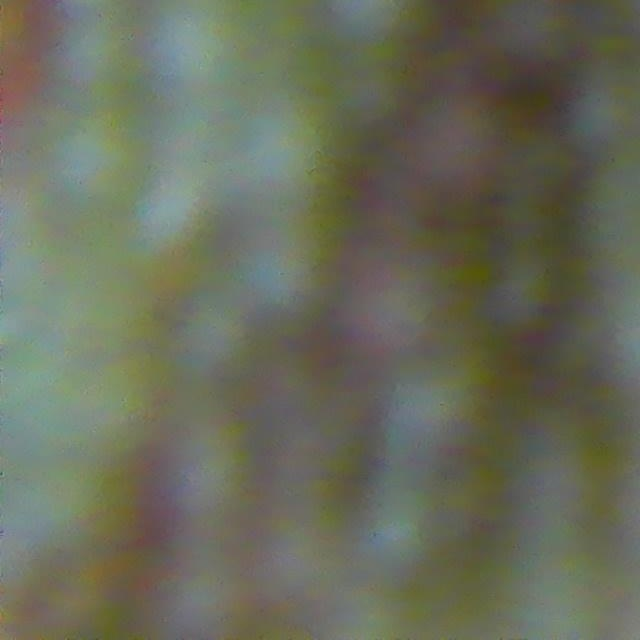SeaGrape: (359, 494, 437, 575)
